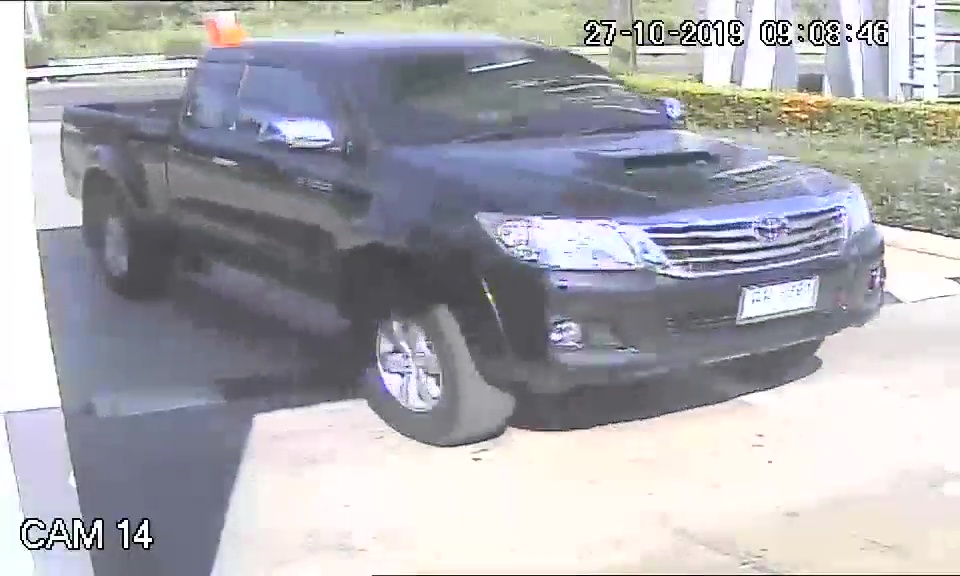pickup: (57, 32, 888, 449)
